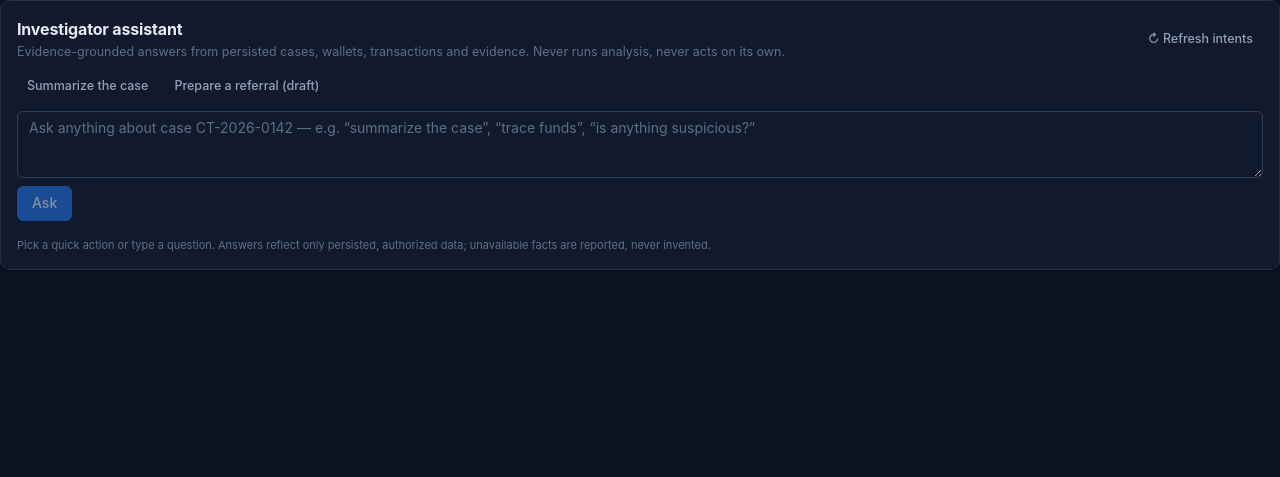
Test: InvestigatorAssistant › renders scoped quick actions and asks the assistant with one click
The width and height of the screenshot is (1280, 477).
Click the button "Summarize the case": (88, 86) 17,74 -> 158,99
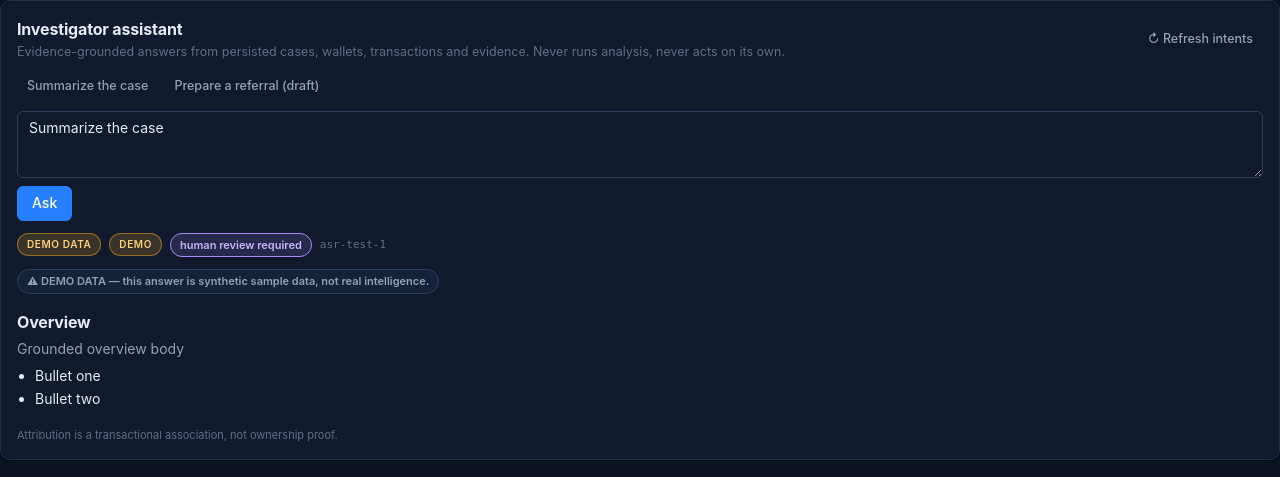
Check: the text "Grounded overview body" is shown, box 17,340 -> 184,357
Check: the list item "Bullet one" is shown, box 35,367 -> 101,384
Check: the text "transactional association" is shown, box 17,428 -> 338,442
